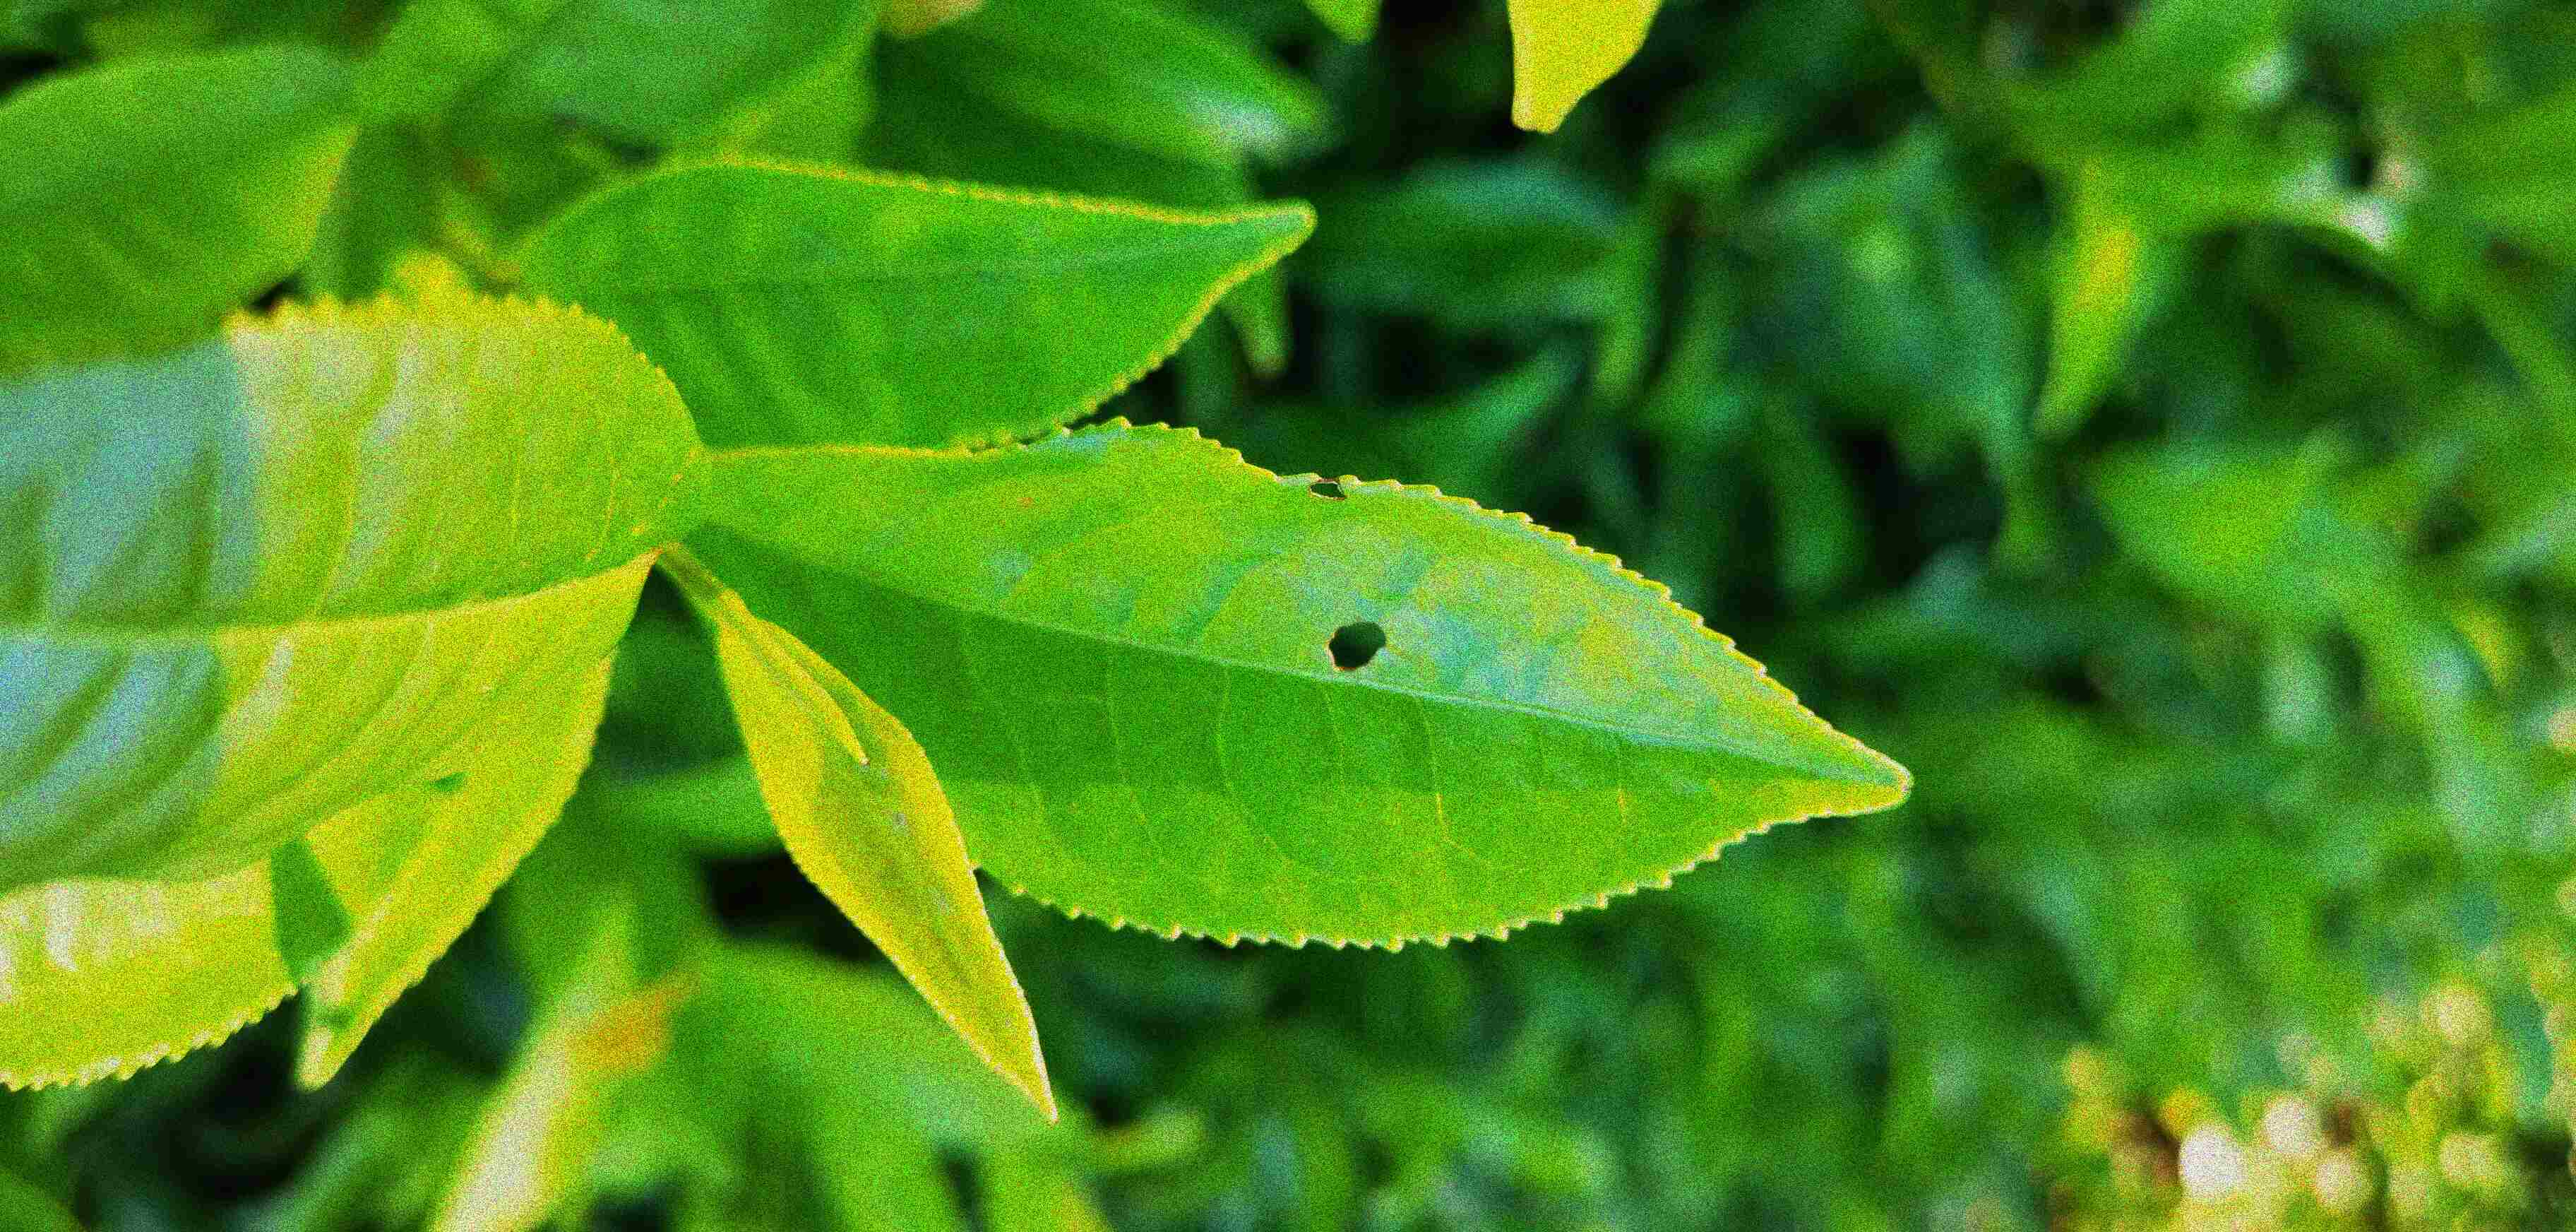chihuo_low: (711, 412, 1916, 956)
healthy: (5, 283, 710, 894), (498, 151, 1321, 448)
